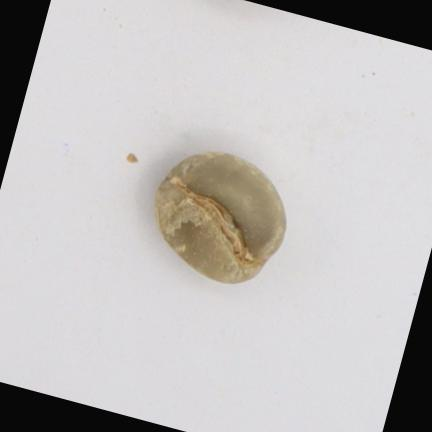immature: (155, 151, 286, 283)
